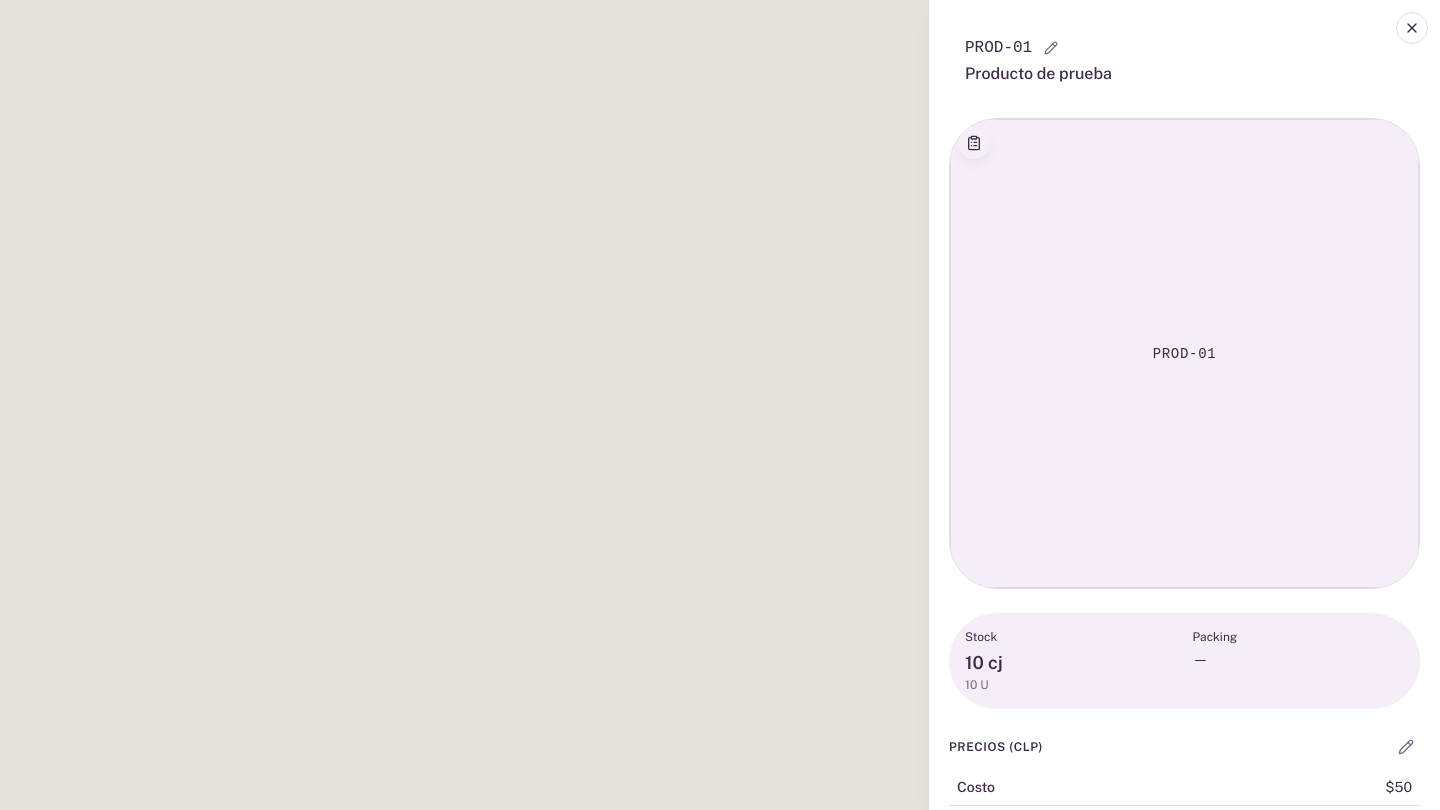
Test: ProductDrawer — editar codigo › abrir edicion precarga el codigo actual en el input
Click the button with test id "editar-codigo-btn" at (1051, 48), box [1040, 37, 1062, 59]
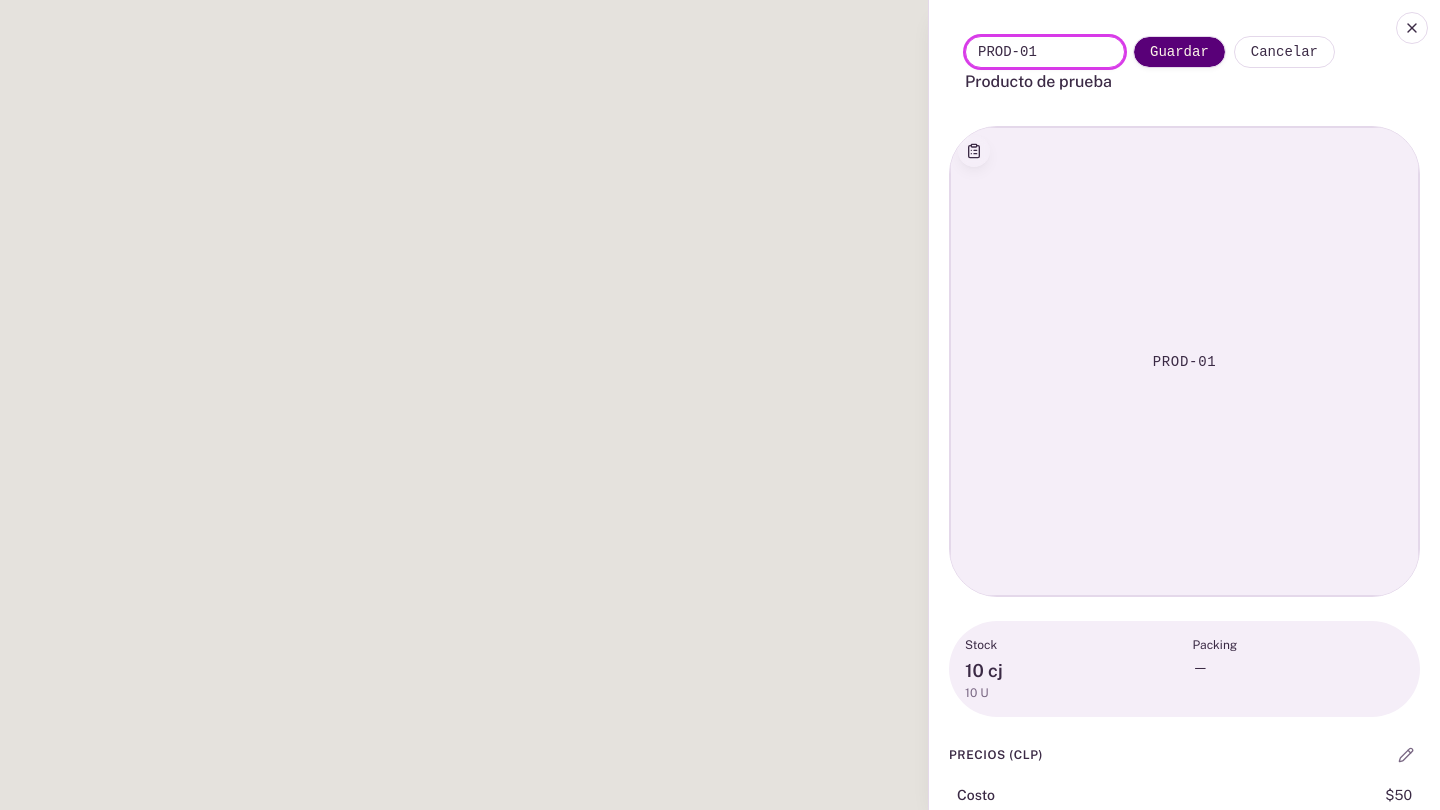
Result: the field with test id "input-codigo" holds "PROD-01" at [965, 36, 1125, 68]
